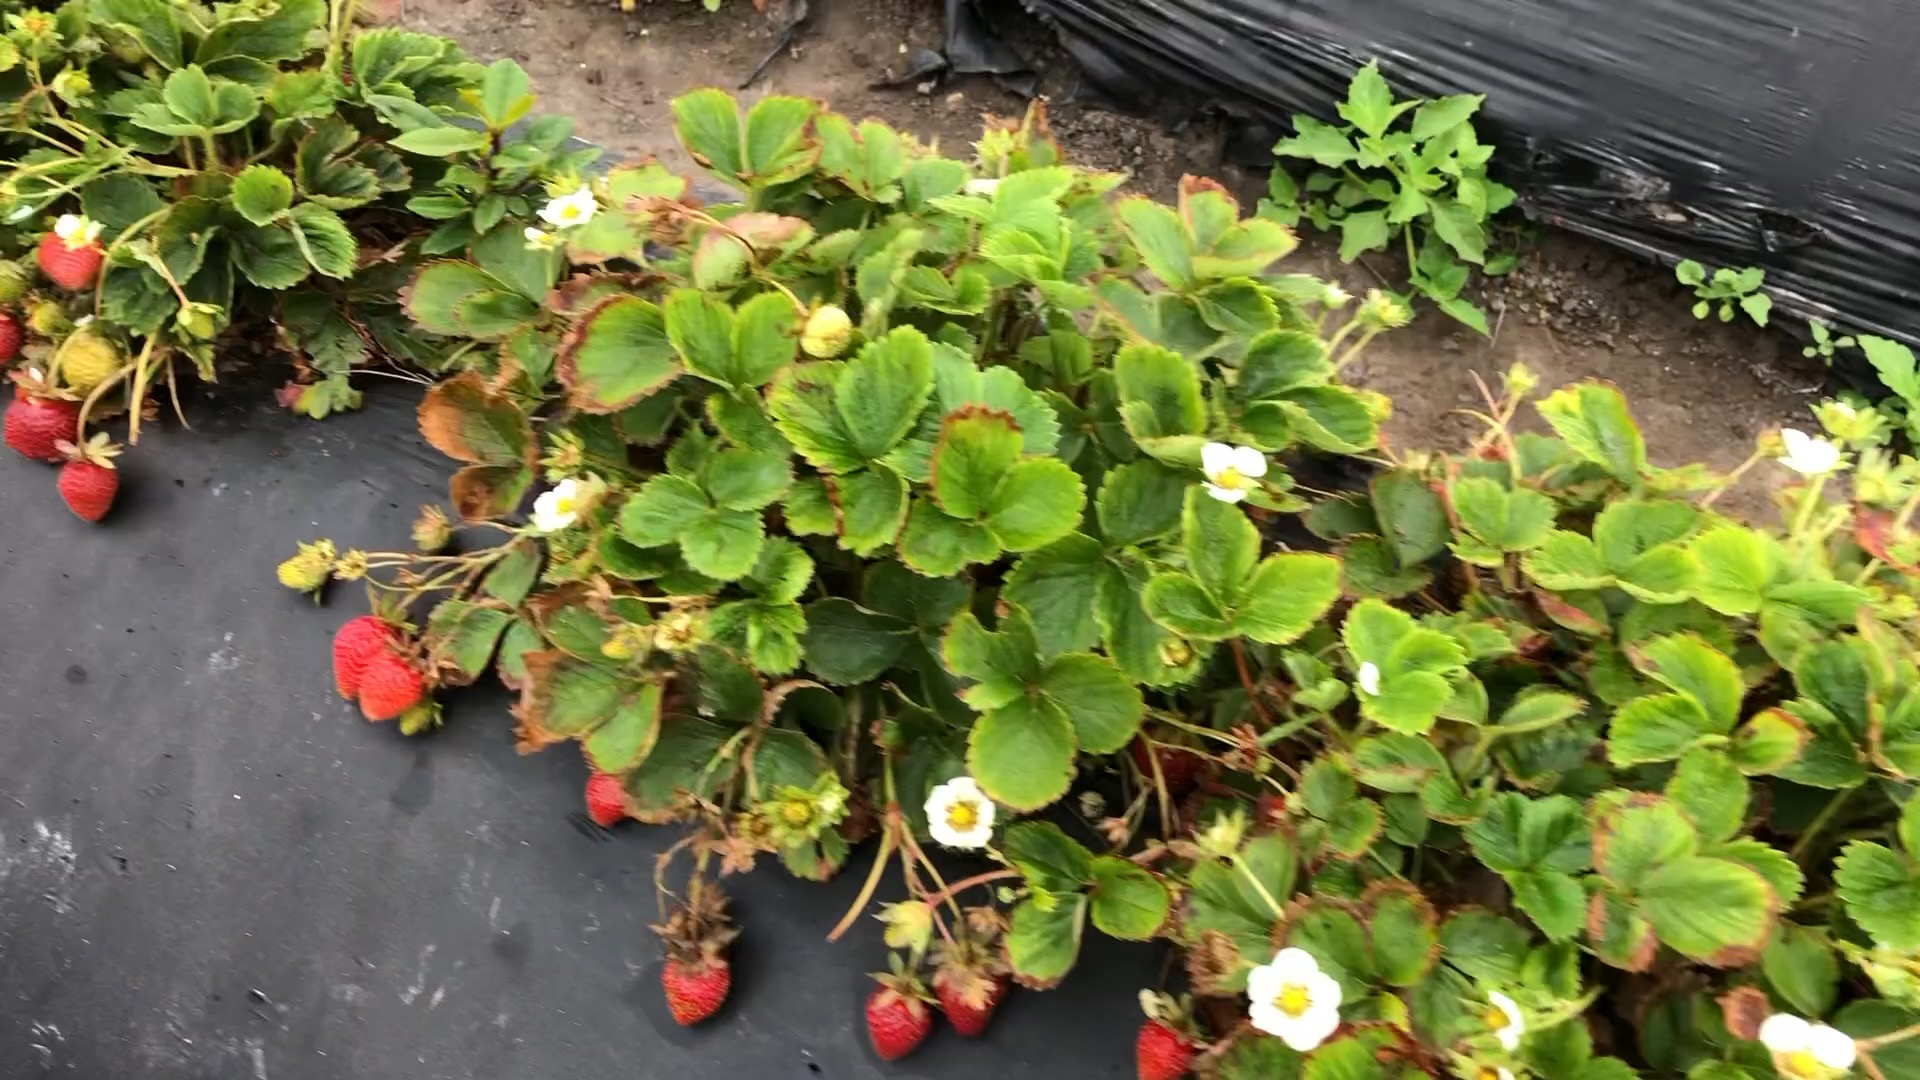ripe_strawberry: (330, 607, 406, 704), (931, 953, 1011, 1040), (3, 386, 82, 467), (658, 945, 732, 1029), (864, 978, 931, 1069), (59, 443, 127, 527), (357, 645, 427, 725), (30, 227, 105, 291), (1133, 1011, 1201, 1080), (580, 770, 626, 832), (1, 311, 28, 371)
unripe_strawberry: (61, 334, 125, 396), (276, 545, 332, 595), (173, 301, 223, 343), (25, 295, 69, 338), (396, 702, 435, 738), (1, 258, 32, 306)
